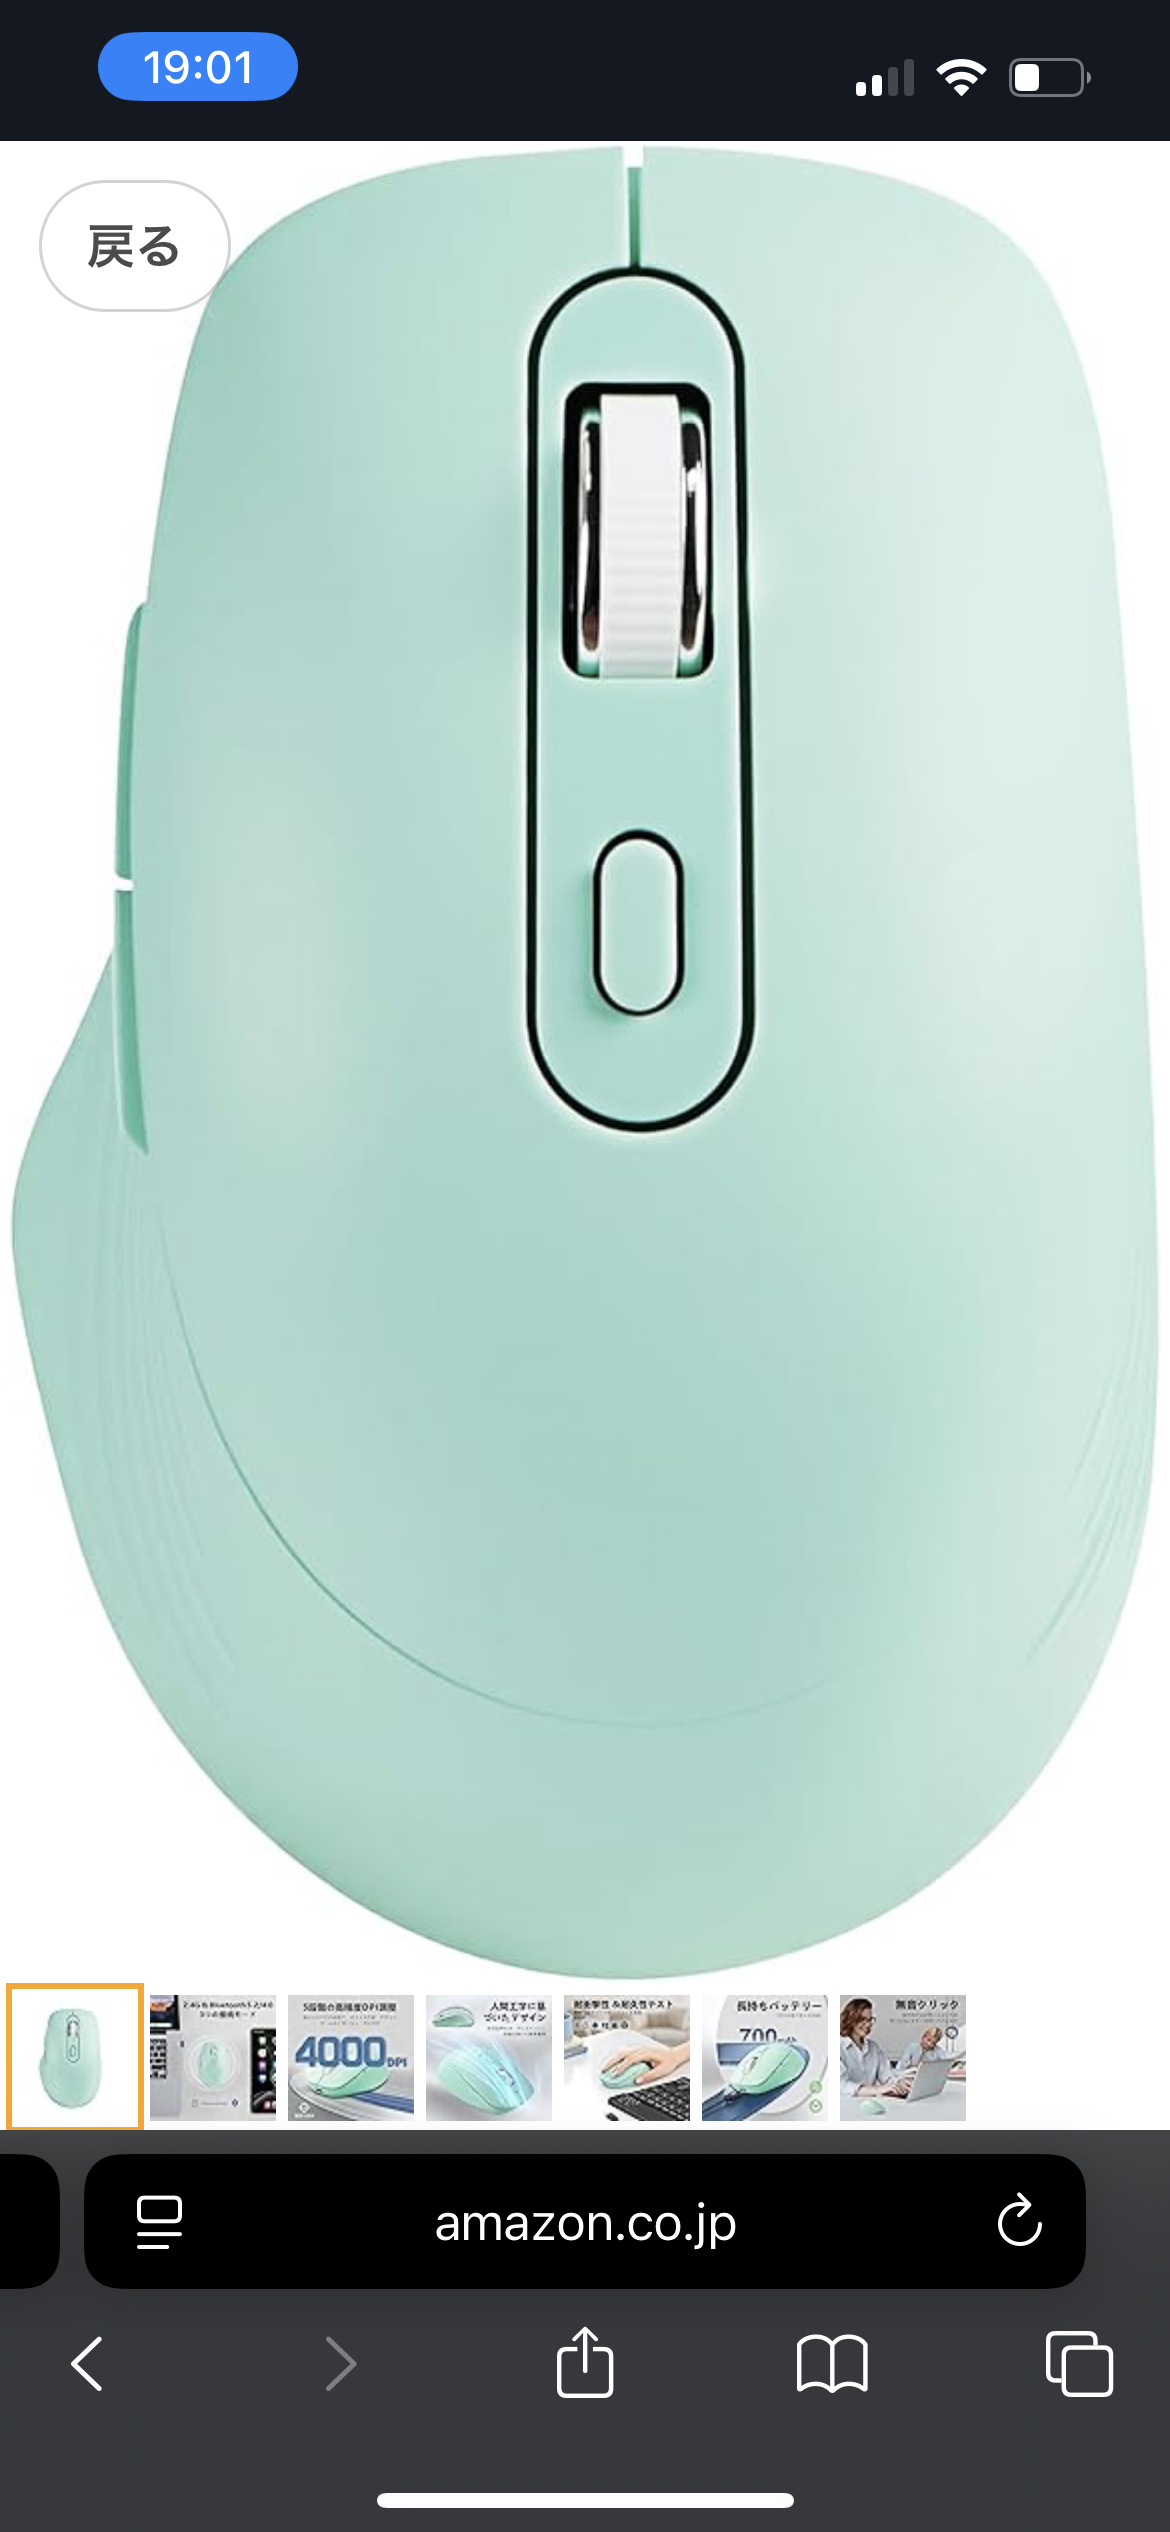mouse: (478, 152, 686, 1991)
